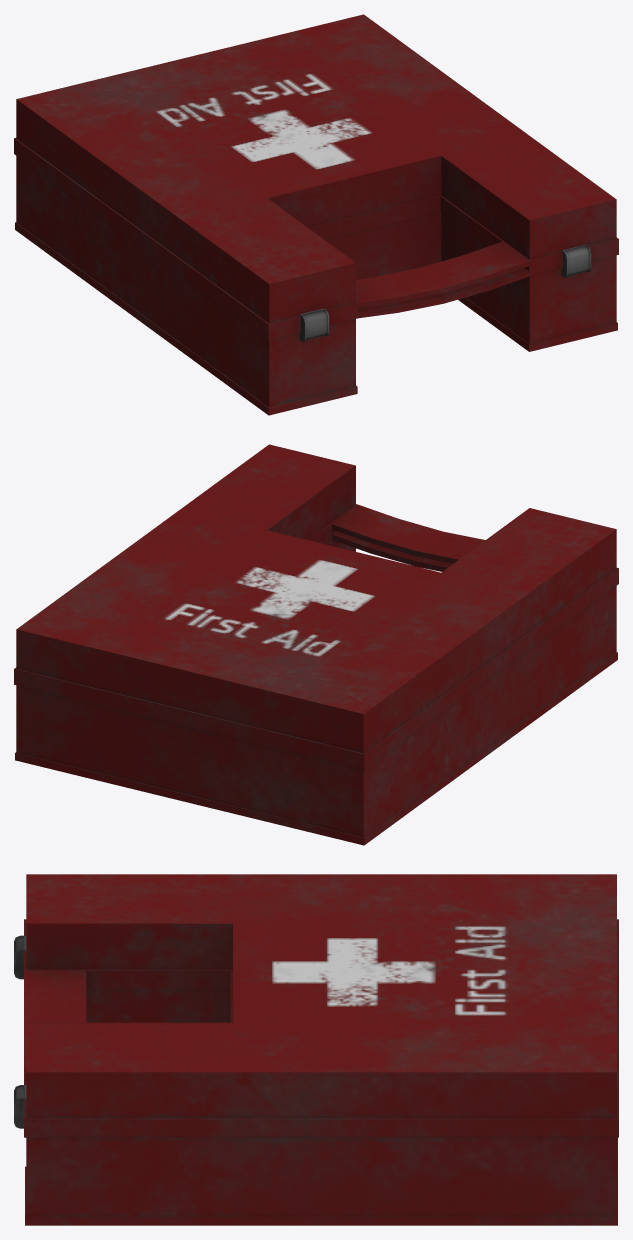
Rendered from FirstAidKit05.glb.
3 renders of one model, top to bottom at view 1: azimuth 30°, elevation 25°; view 2: azimuth 150°, elevation 25°; view 3: azimuth 270°, elevation 25°, orthographic. The views are drawn at different scales.
Parts seen in each view (by area): view 1: First_aid_kit_05; view 2: First_aid_kit_05; view 3: First_aid_kit_05.
Boxes of the visible parts, <box> form: First_aid_kit_05: <box>14,14,618,415</box>; First_aid_kit_05: <box>14,444,618,845</box>; First_aid_kit_05: <box>14,874,618,1225</box>.
Size of the model in its own units: 0.3027 by 0.108 by 0.3872.
Materials: 1 (1 with a texture image).
